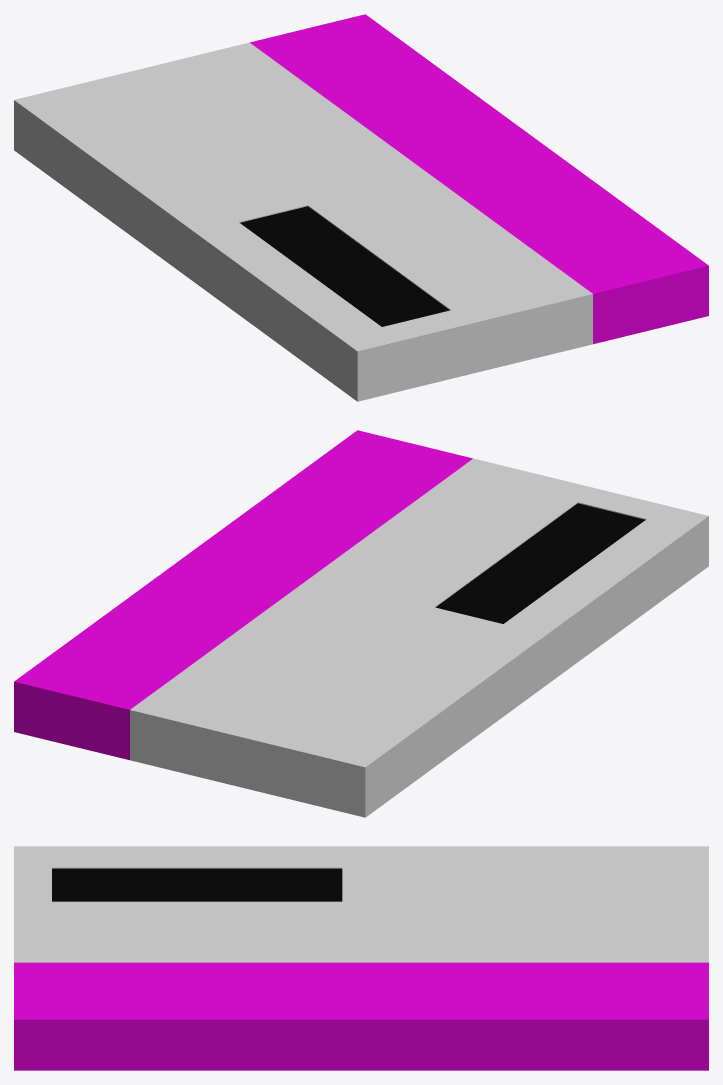
File: pink card.glb
3 renders of one model, top to bottom at view 1: azimuth 30°, elevation 25°; view 2: azimuth 150°, elevation 25°; view 3: azimuth 270°, elevation 25°, orthographic.
Parts seen in each view (by area): view 1: Cube3-col; view 2: Cube3-col; view 3: Cube3-col.
Part boxes in pixels (x1,y1,x2,y2): Cube3-col: (14,14,708,401); Cube3-col: (14,430,708,817); Cube3-col: (14,846,708,1070).
Bounding box in the file's own units: 0.95 × 0.13 × 1.61.
